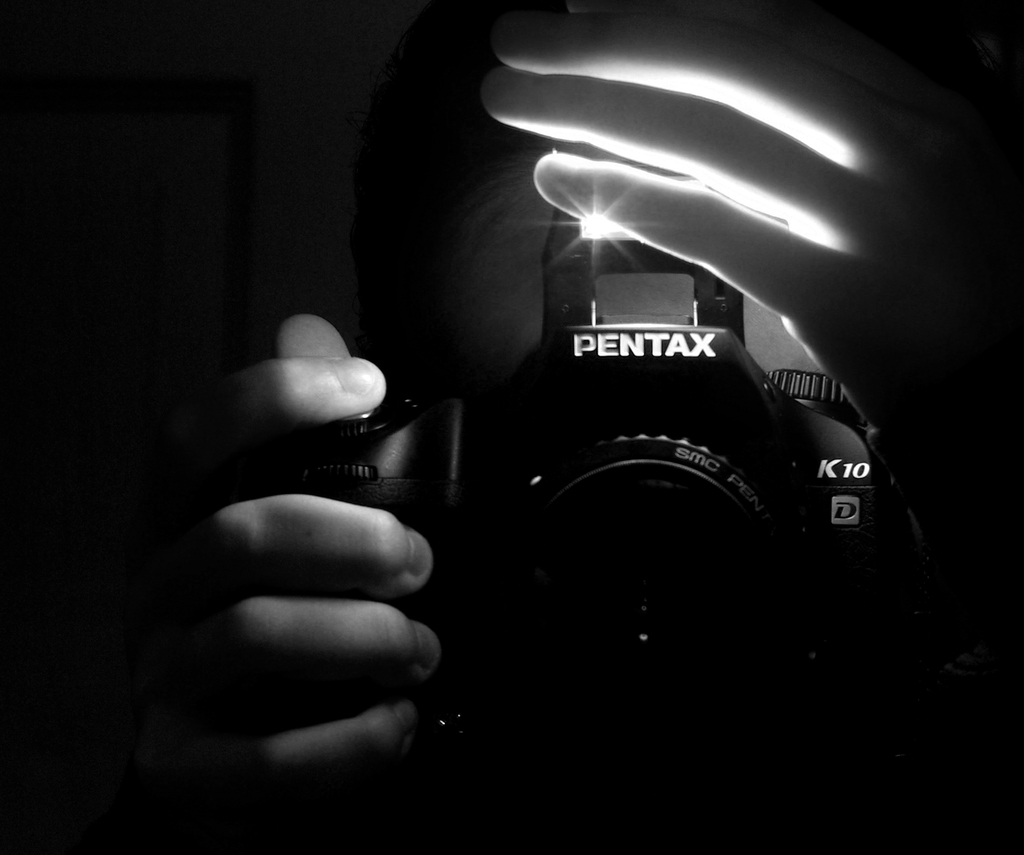Human_hand: (483, 0, 1023, 632), (125, 282, 476, 794)
